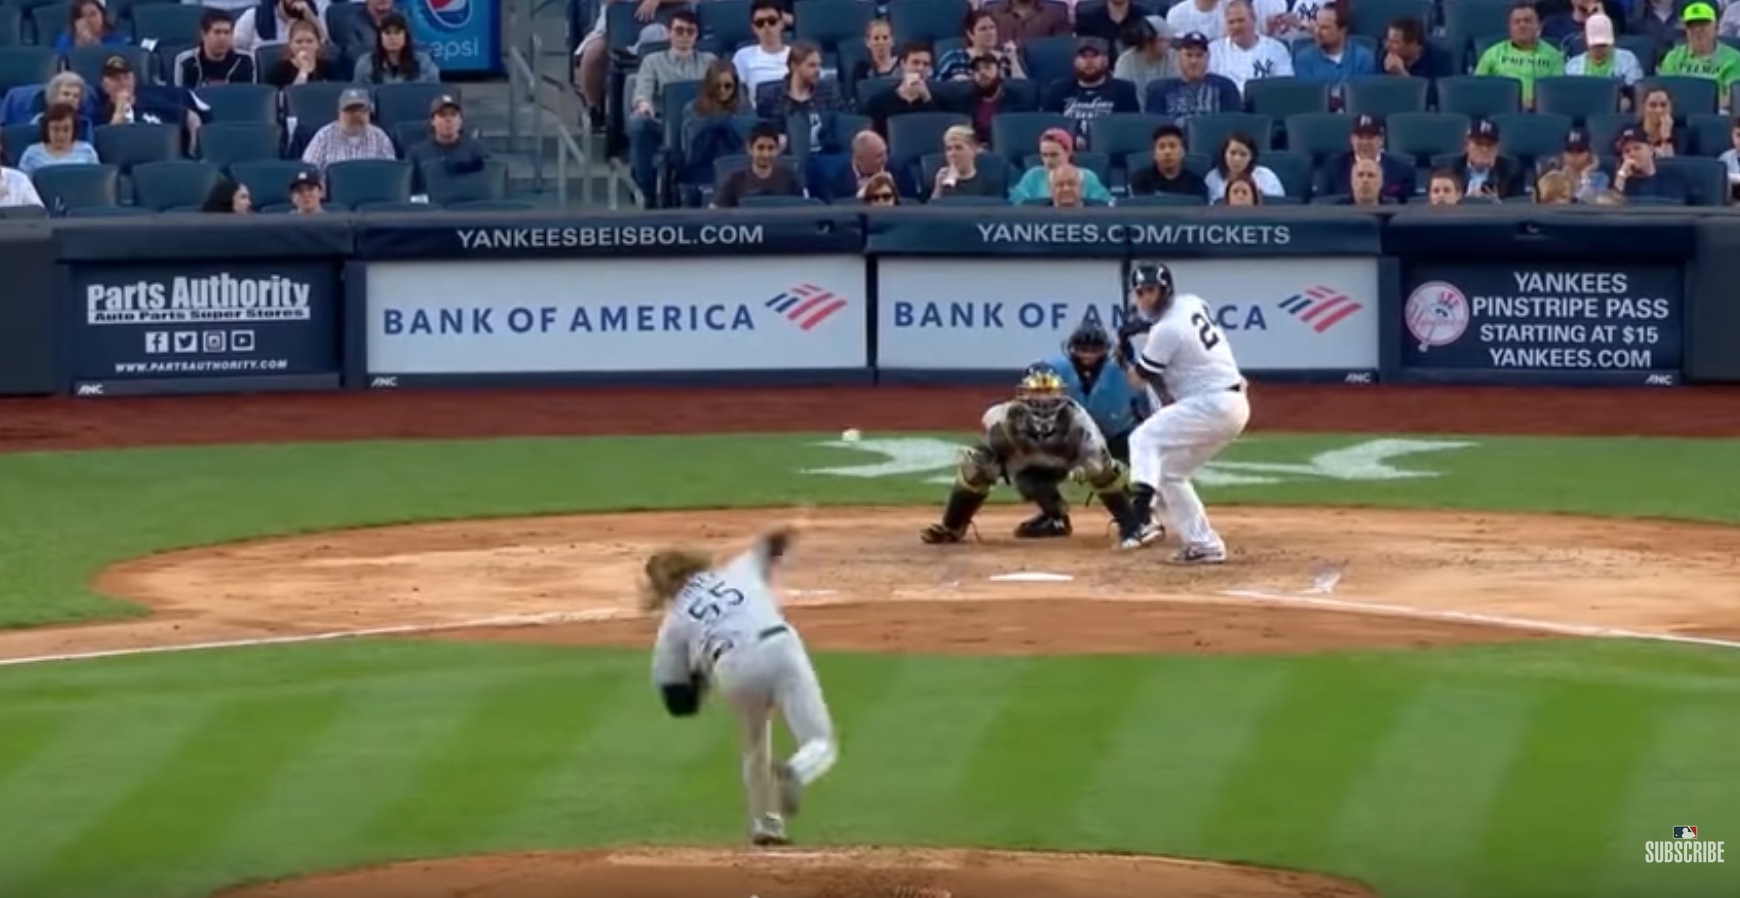ball: (838, 424, 859, 448)
